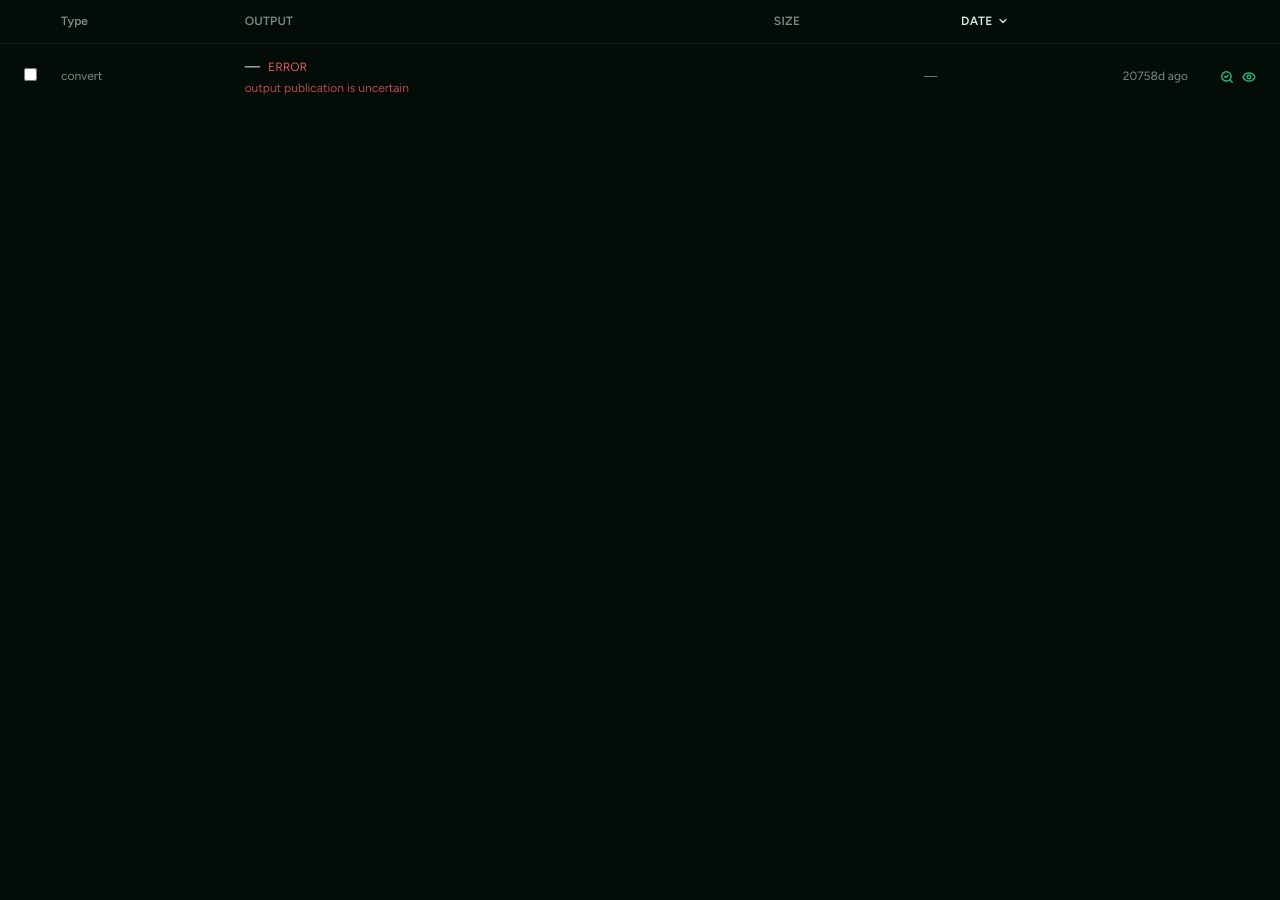
Scenario: HistoryList verified publication review › keeps the confirmation open and reports a failed recovery
Click the button named "review uncertain publication" at (1227, 77), box x1=1220 y1=70 x2=1234 y2=84
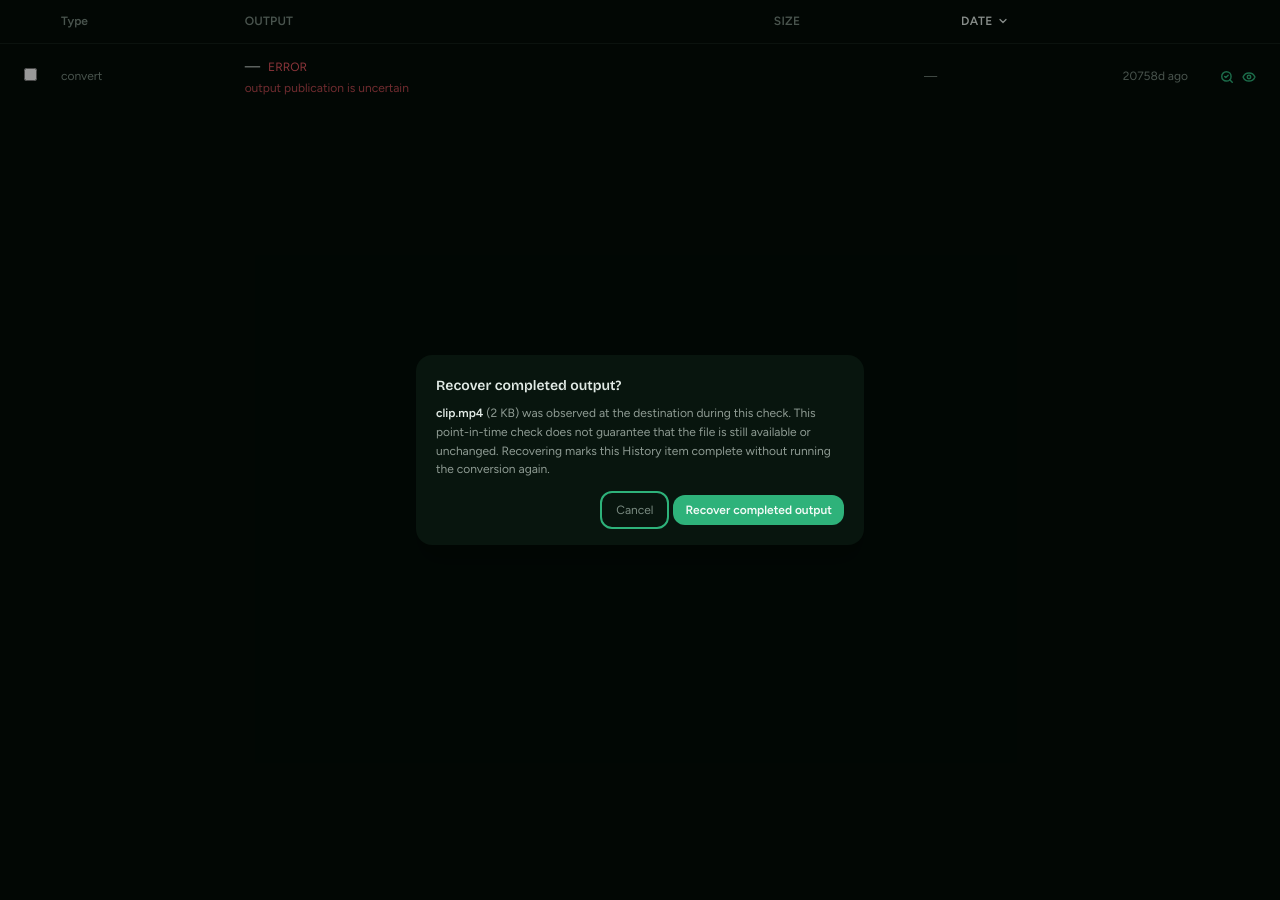
Click the button "Recover completed output" at (759, 510), box x1=674 y1=495 x2=844 y2=525
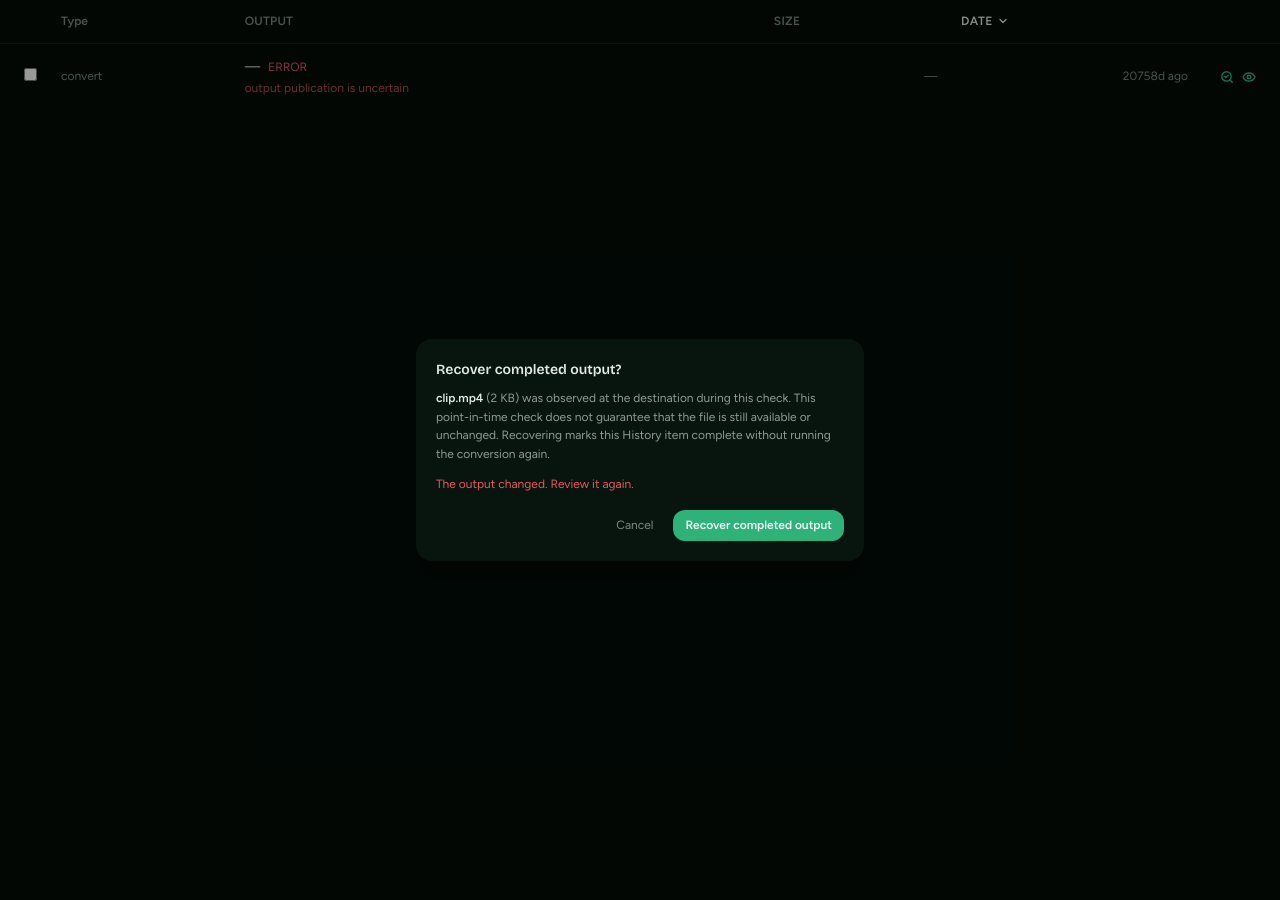
Check: the dialog "Recover completed output" is shown
Check: the message reads "The output changed. Review it again.", box x1=436 y1=477 x2=634 y2=491
